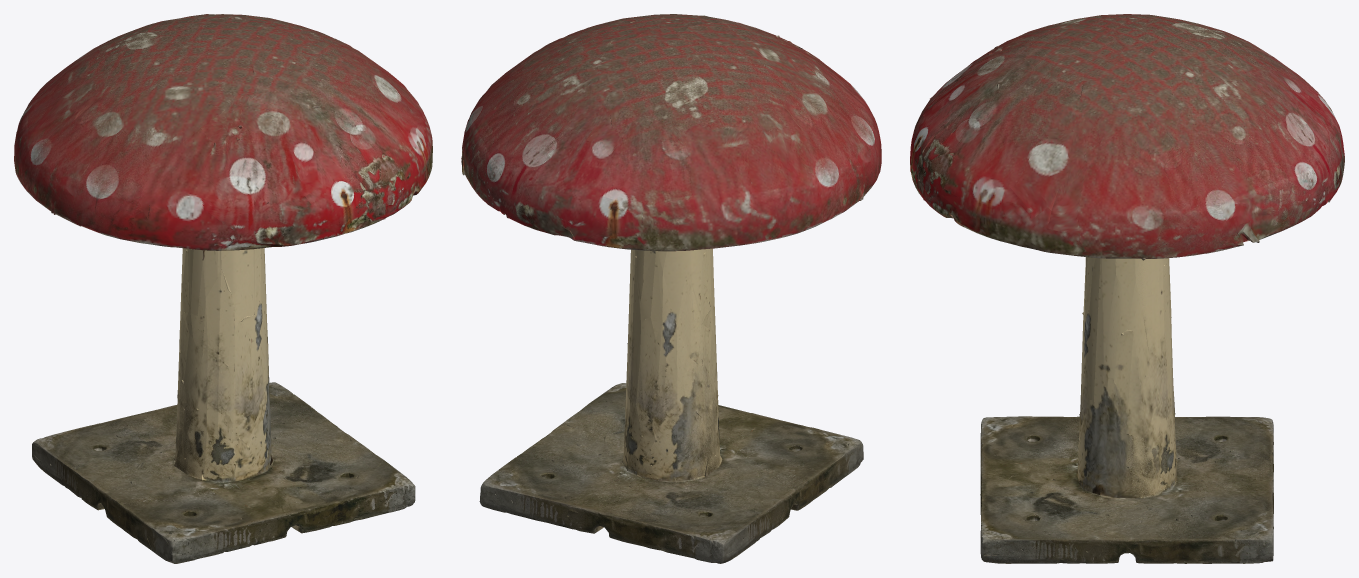
The model's file is fungo_fontana_meshy.glb.
The picture shows the model from 3 angles, left to right: view 1: azimuth 30°, elevation 25°; view 2: azimuth 150°, elevation 25°; view 3: azimuth 270°, elevation 25°; orthographic projection. The views are drawn at different scales.
Parts seen in each view (by area): view 1: Mesh_0; view 2: Mesh_0; view 3: Mesh_0.
Boxes of the visible parts, x1,y1,x2,y2 form: Mesh_0: (14, 14, 432, 563); Mesh_0: (461, 14, 881, 563); Mesh_0: (910, 14, 1344, 563).
Size of the model in its own units: 1.63 by 1.9 by 1.63.
1 material, 1 textured.
